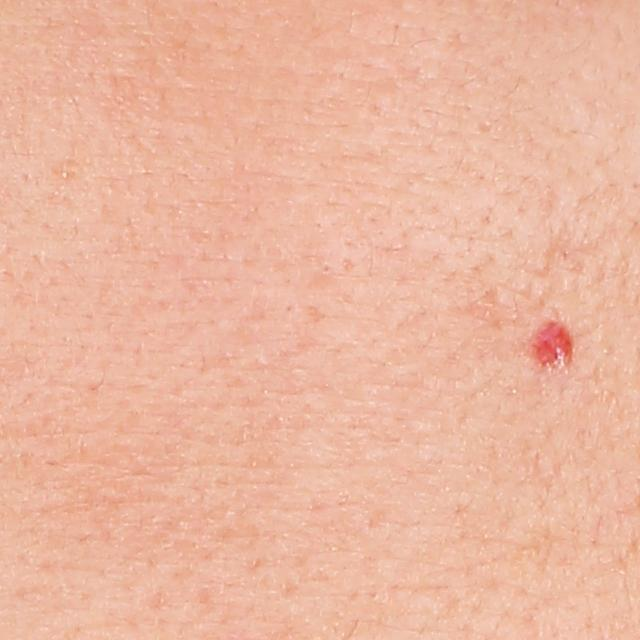other: (528, 314, 577, 374)
